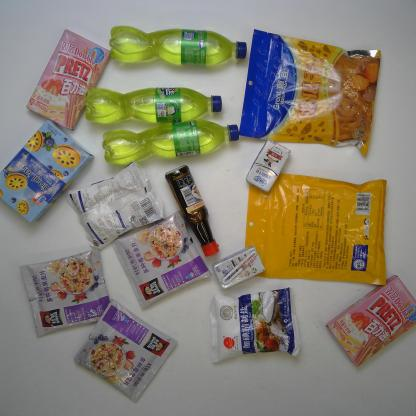Dessert: (22, 25, 116, 132), (0, 117, 92, 226), (325, 274, 416, 366)
Dried Fruit: (237, 23, 387, 158), (236, 167, 392, 290)
Drink: (96, 115, 242, 170), (106, 22, 248, 70), (79, 81, 227, 125)
Instant Drink: (69, 296, 180, 402), (112, 207, 214, 312), (19, 244, 118, 345)
Milk: (243, 136, 293, 196), (209, 246, 267, 291)
Seasoner: (62, 159, 170, 249), (206, 286, 303, 366), (162, 162, 224, 260)
